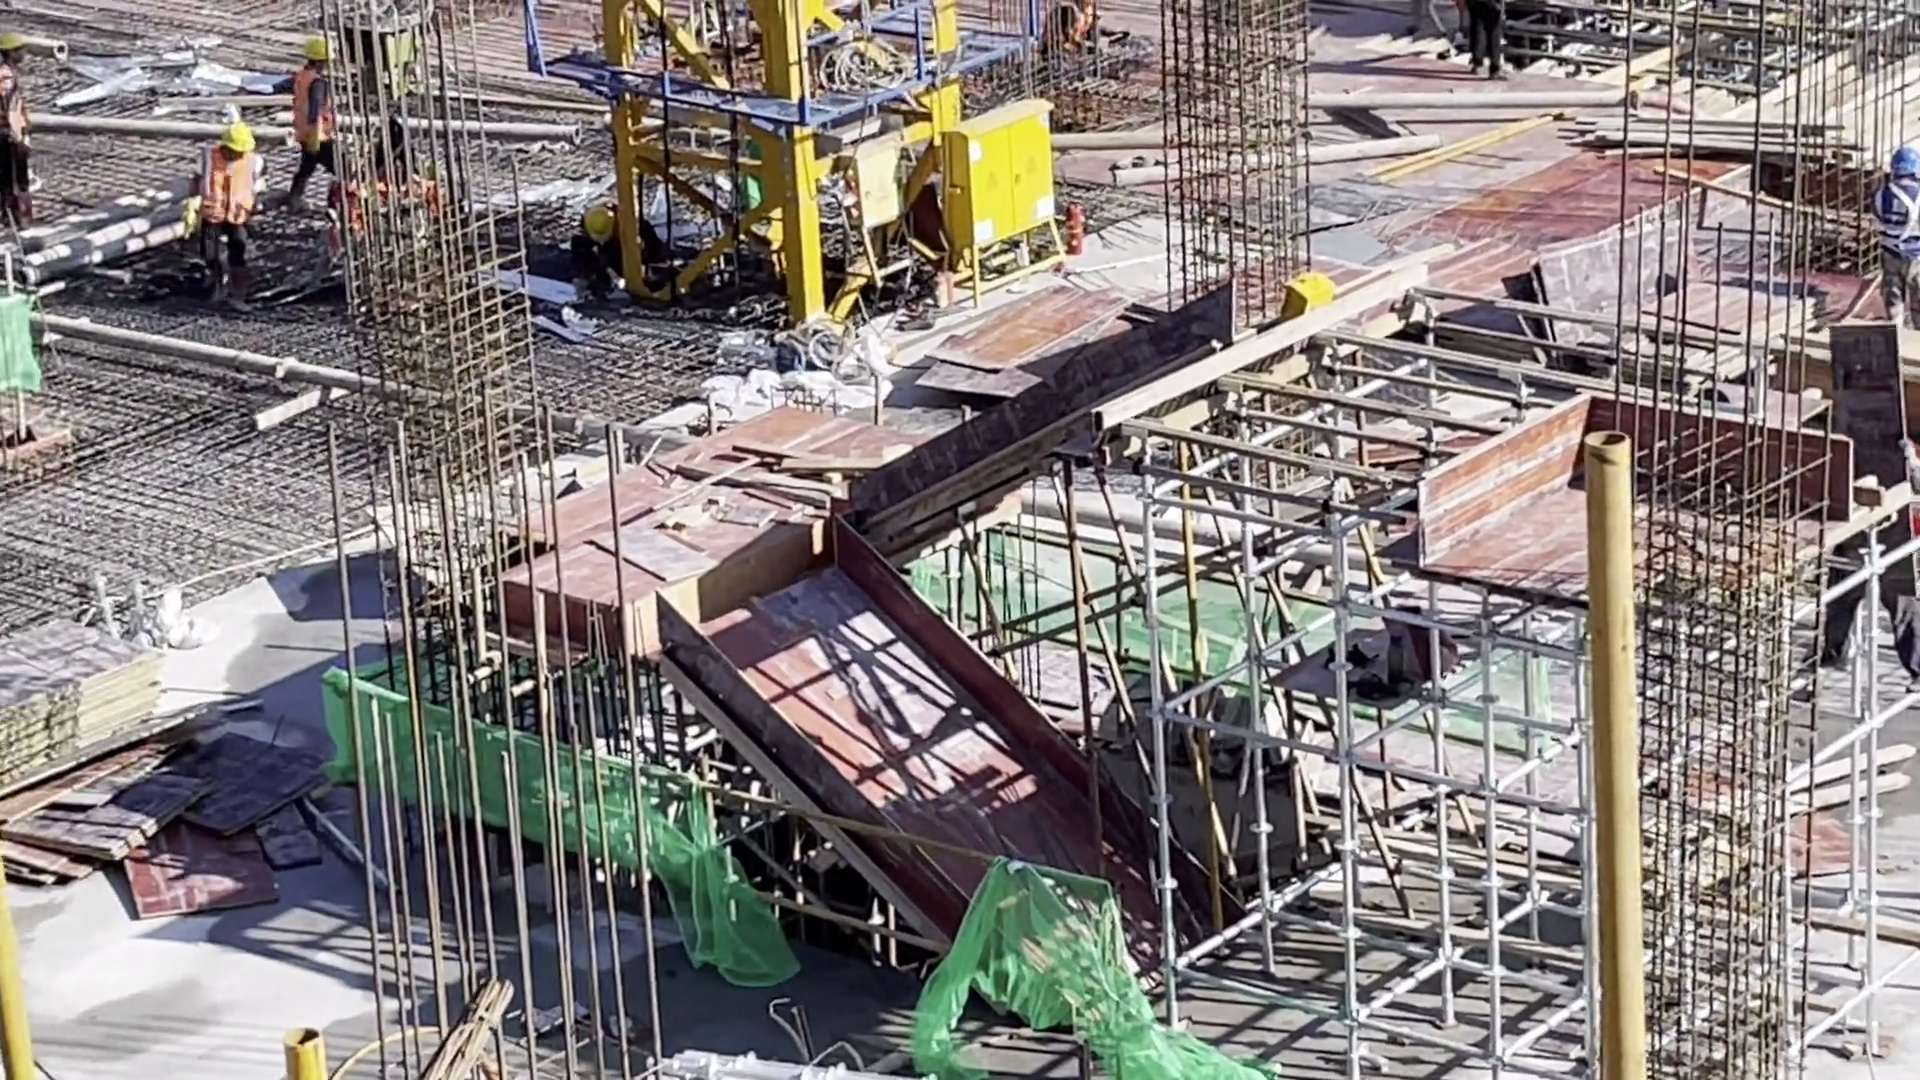helmet: (585, 202, 614, 240), (217, 124, 259, 150), (302, 38, 336, 66), (1889, 151, 1920, 179), (3, 32, 28, 54)
person: (192, 123, 271, 312), (289, 42, 352, 227), (563, 202, 673, 294), (1867, 146, 1920, 326), (1, 27, 41, 241), (1043, 5, 1104, 65), (1461, 6, 1507, 77)
vest: (204, 154, 257, 225), (292, 68, 335, 146), (1881, 186, 1920, 267), (2, 71, 31, 146)
